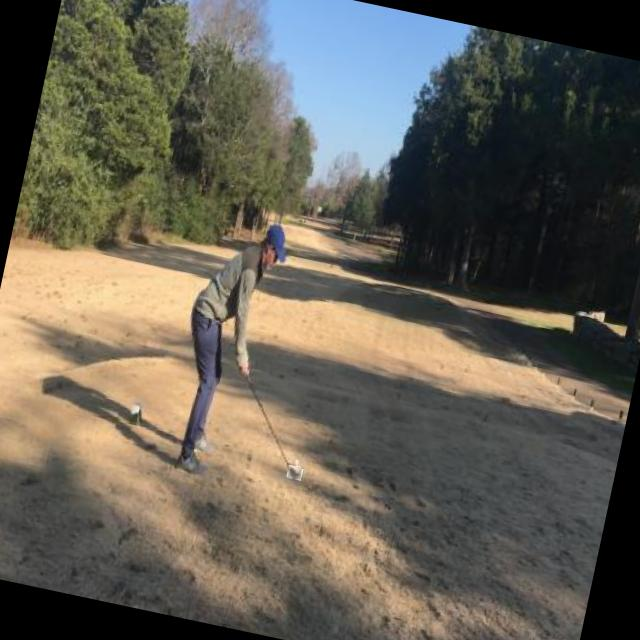club head: (286, 464, 303, 480)
